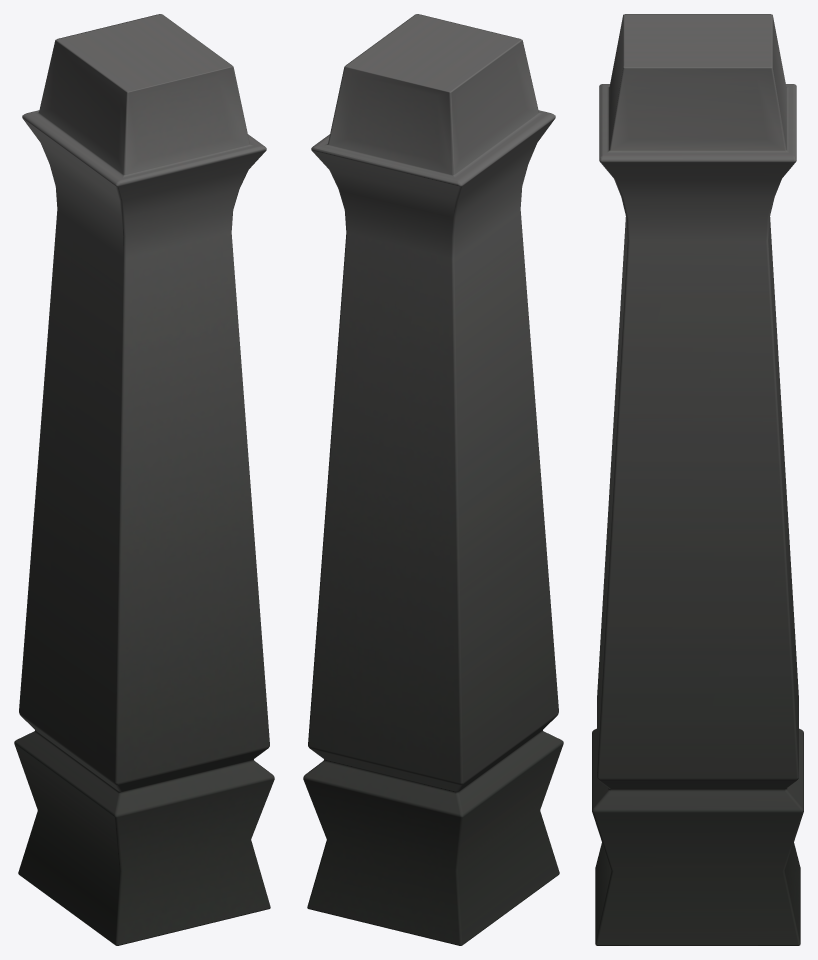
The model's file is PilarGrande.fbx.
The picture shows the model from 3 angles, left to right: view 1: azimuth 30°, elevation 25°; view 2: azimuth 150°, elevation 25°; view 3: azimuth 270°, elevation 25°; orthographic projection. The views are drawn at different scales.
Visible parts, largest first — view 1: mini pilar.001; view 2: mini pilar.001; view 3: mini pilar.001.
Boxes of the visible parts, x1=… form: mini pilar.001: x1=14, y1=14, x2=274, y2=945; mini pilar.001: x1=303, y1=14, x2=563, y2=945; mini pilar.001: x1=592, y1=14, x2=803, y2=945.
Bounding box in the file's own units: 160 × 800 × 177.
